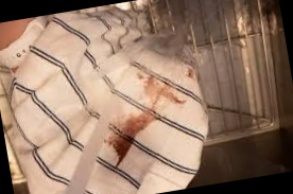wine: (98, 110, 161, 167), (135, 77, 190, 111), (181, 67, 199, 84)
